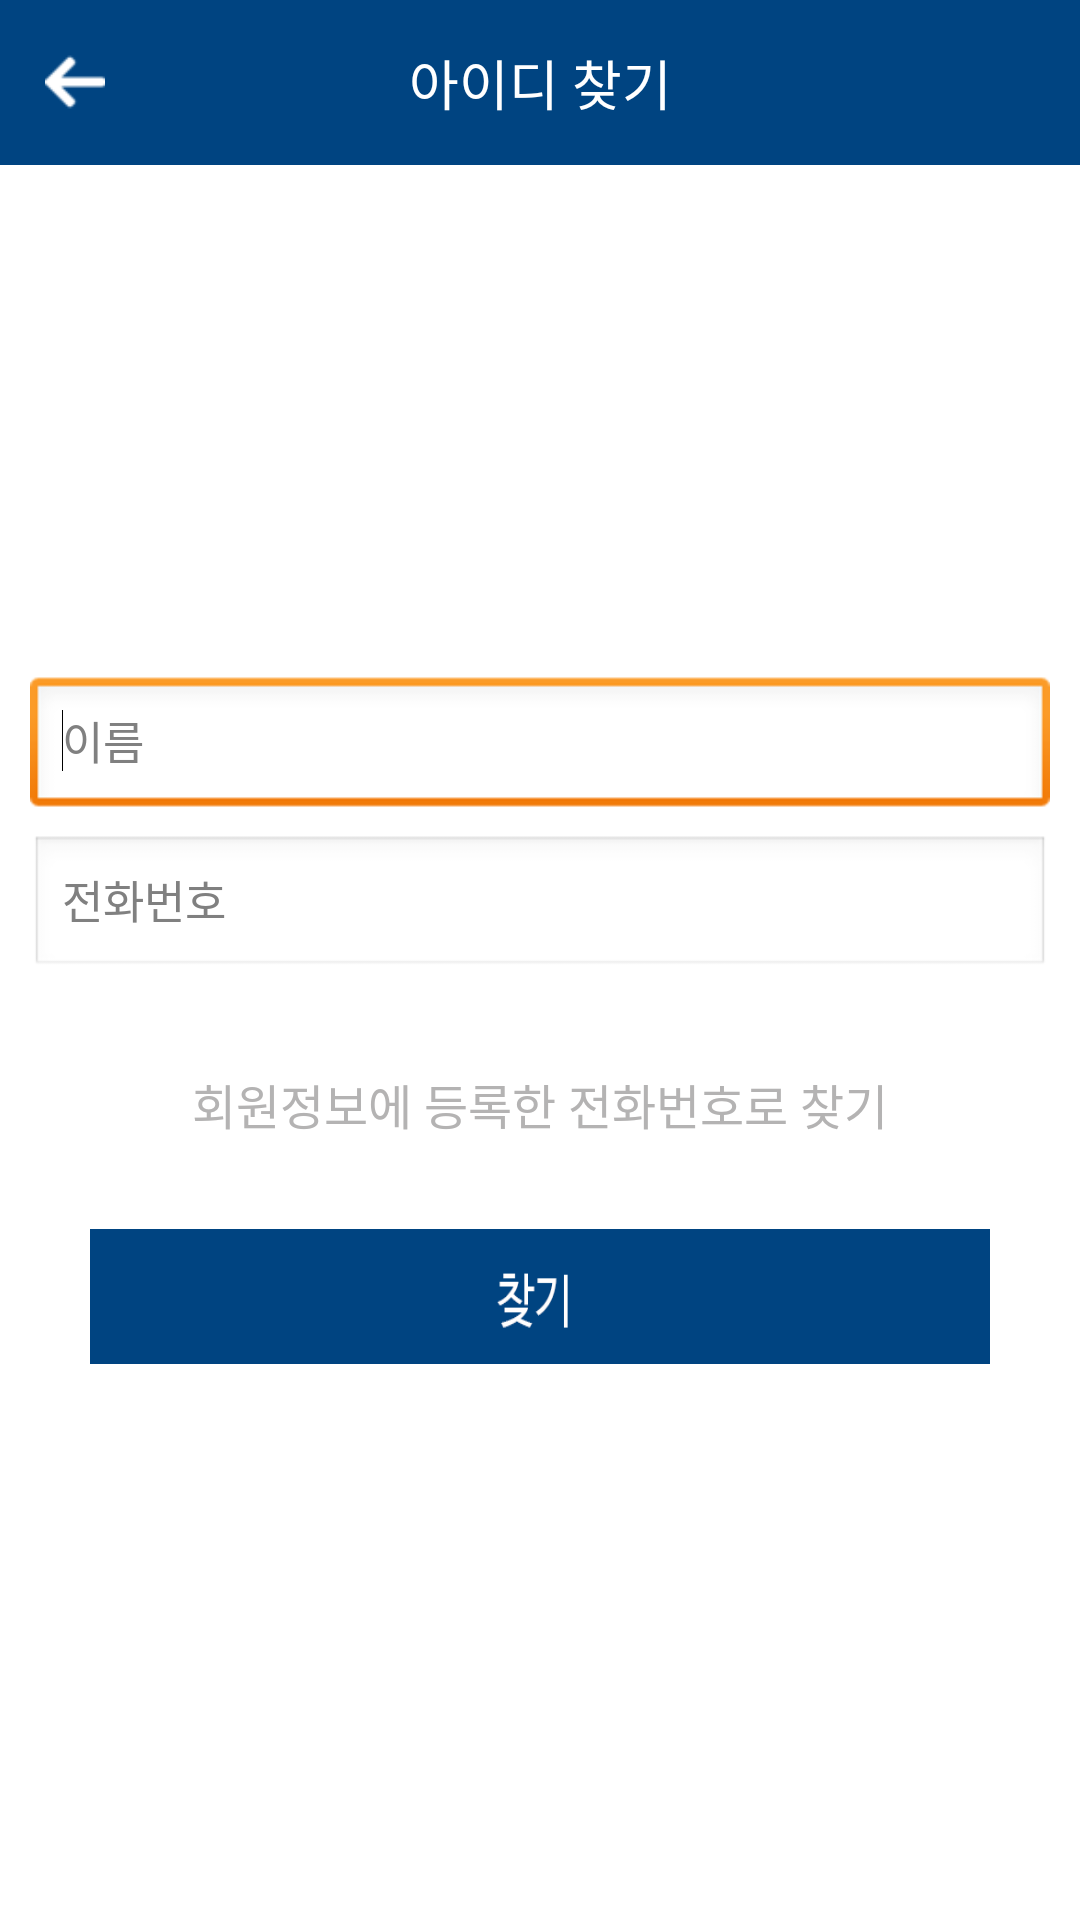

Icons on this 1080 x 1920 Android screen, each with the point to tap as (x=x, y=y):
back: (x=75, y=82)
